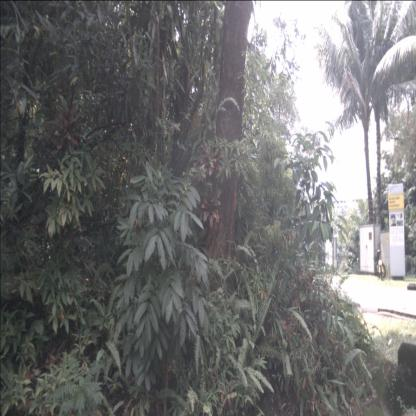vehicle-bicycle: (373, 240, 386, 283)
